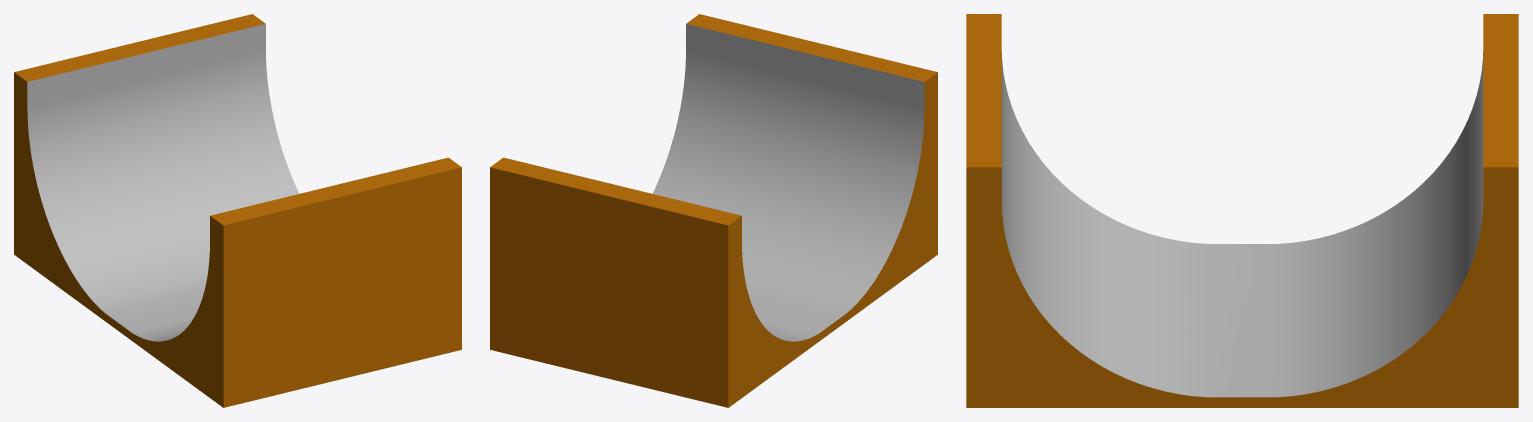
File: HalfPipe.fbx
3 renders of one model, left to right at view 1: azimuth 30°, elevation 25°; view 2: azimuth 150°, elevation 25°; view 3: azimuth 270°, elevation 25°, orthographic. The views are drawn at different scales.
Visible parts, largest first — view 1: Half Pipe; view 2: Half Pipe; view 3: Half Pipe.
Boxes of the visible parts, x1,y1,x2,y2 form: Half Pipe: (14,14,461,407); Half Pipe: (490,14,937,407); Half Pipe: (966,14,1518,407).
Bounding box in the file's own units: 7868 × 5754 × 11971.
